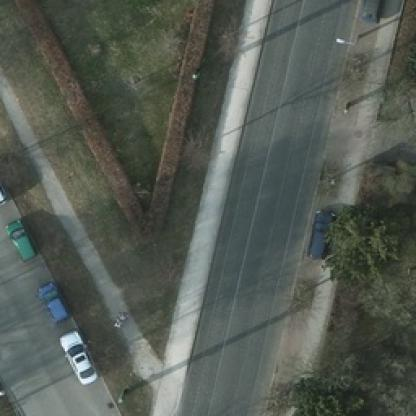car: (56, 328, 94, 385), (304, 205, 335, 260), (34, 274, 68, 322), (5, 216, 32, 258), (356, 0, 385, 23)
